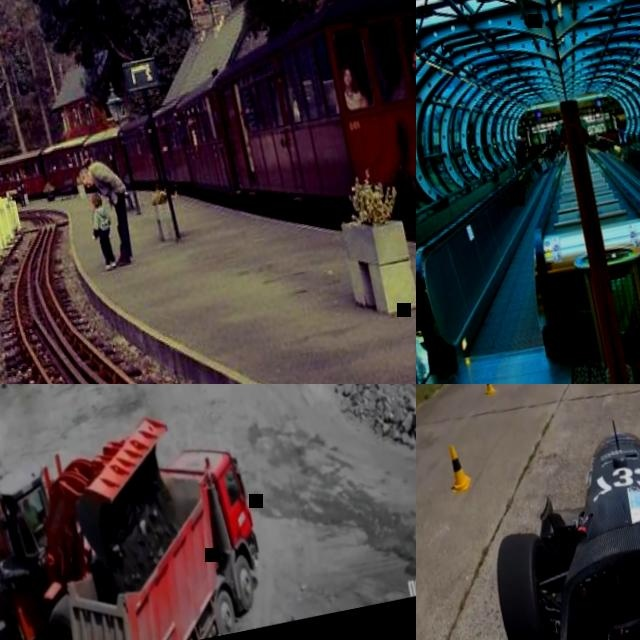NO-Hardhat: (89, 193, 102, 207), (79, 169, 89, 185), (339, 66, 353, 77), (411, 46, 416, 57), (517, 137, 522, 143), (552, 132, 555, 137), (619, 126, 622, 130)
NO-Mask: (86, 174, 95, 188), (343, 77, 353, 88), (411, 60, 416, 73), (91, 204, 96, 210)
NO-Safety Vest: (89, 159, 123, 201), (91, 206, 110, 233), (344, 88, 365, 111), (516, 141, 526, 155), (550, 137, 559, 151), (619, 129, 625, 138)
Person: (79, 156, 141, 272), (83, 191, 119, 272), (339, 64, 371, 112), (513, 135, 529, 167), (406, 48, 416, 97), (548, 131, 561, 157), (618, 126, 626, 144)
Safety Cone: (442, 444, 476, 497), (482, 384, 496, 396)
machinery: (34, 436, 272, 640), (0, 411, 205, 640)
vehicle: (459, 384, 640, 640)
